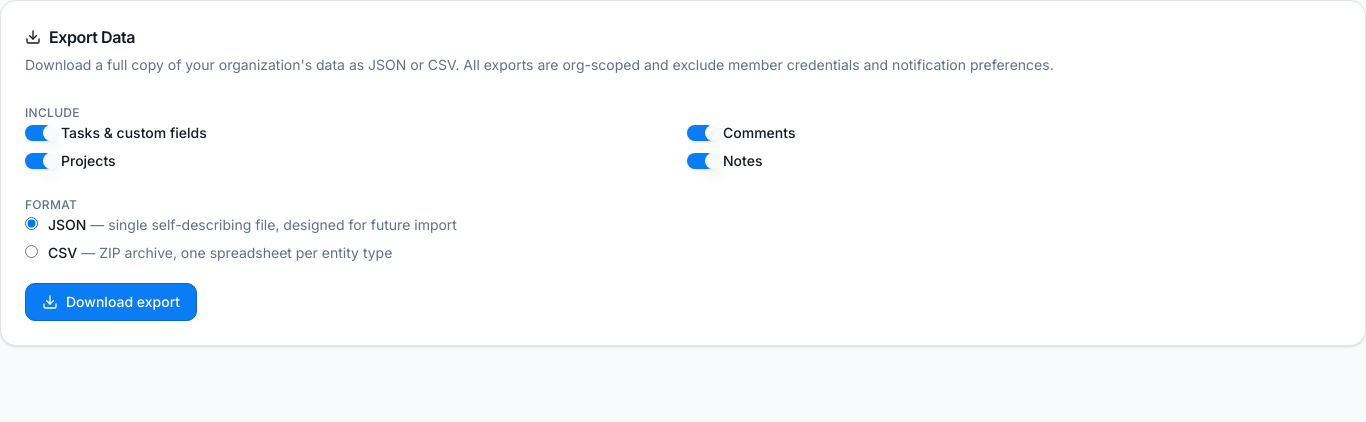
Test: ExportCard — export_ready SSE live-update › button is disabled with 'Export in progress…' label while a background job is queued
Click the button "Download export": coordinates (111, 302) 25,283 -> 197,321
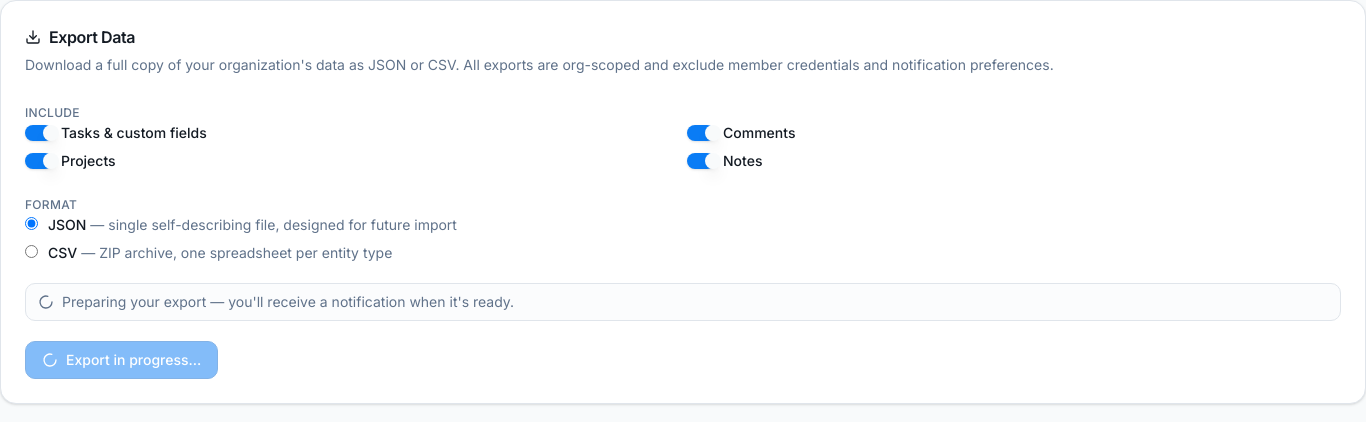
Result: the button "Export in progress…" is disabled at 25,341 -> 218,379
